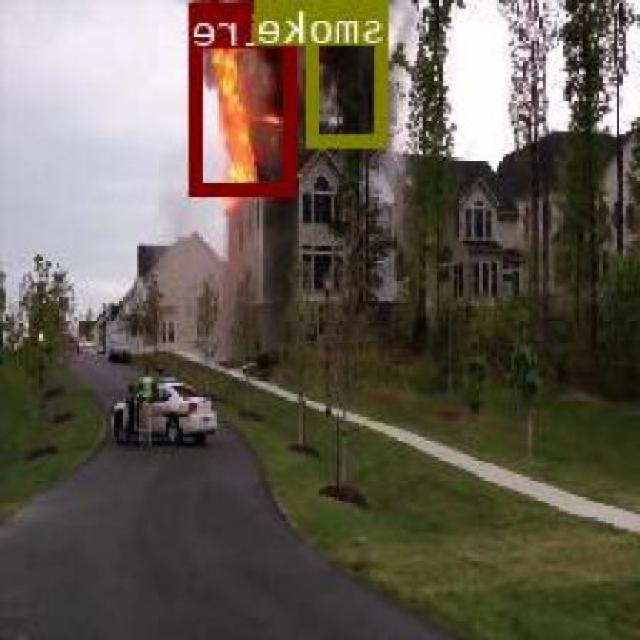Fire: (194, 0, 298, 194)
Smoke: (310, 0, 390, 146)
